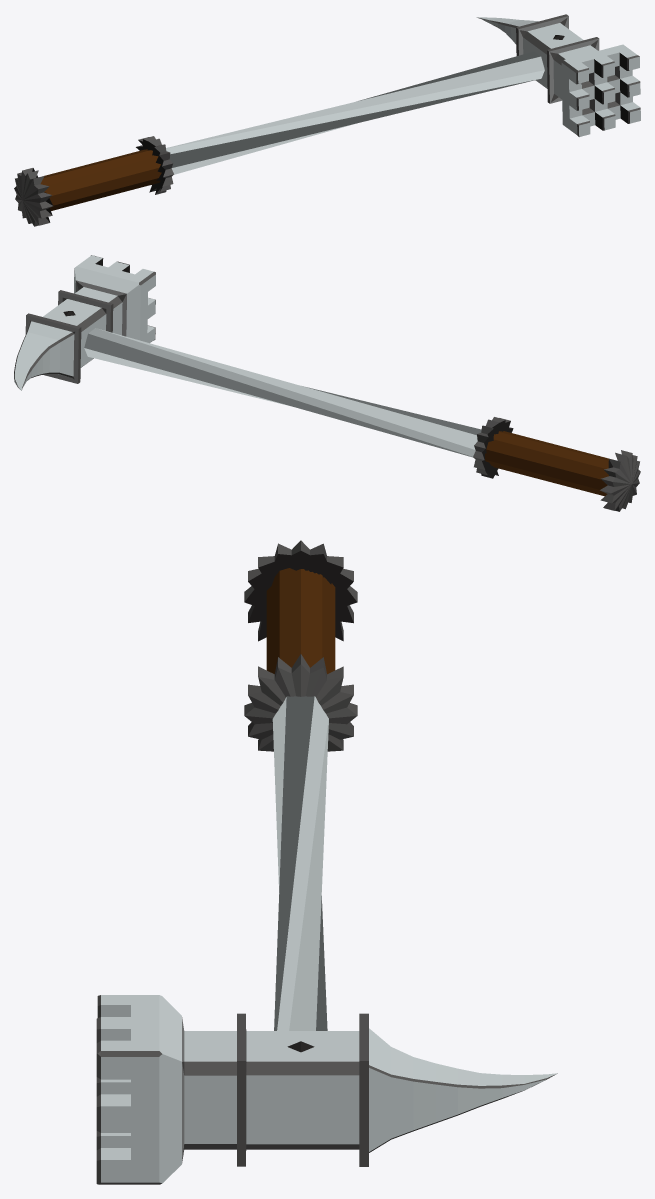
The model's file is WorldItem_WarHammer.fbx.
3 renders of one model, top to bottom at view 1: azimuth 30°, elevation 25°; view 2: azimuth 150°, elevation 25°; view 3: azimuth 270°, elevation 25°, orthographic. The views are drawn at different scales.
Parts seen in each view (by area): view 1: ZomboidWarhammer; view 2: ZomboidWarhammer; view 3: ZomboidWarhammer.
Part boxes in pixels (bbox=[...]): ZomboidWarhammer: bbox=[14, 14, 640, 226]; ZomboidWarhammer: bbox=[14, 255, 640, 511]; ZomboidWarhammer: bbox=[96, 540, 557, 1184].
Bounding box in the file's own units: 0.5381 × 0.0626 × 0.1894.
